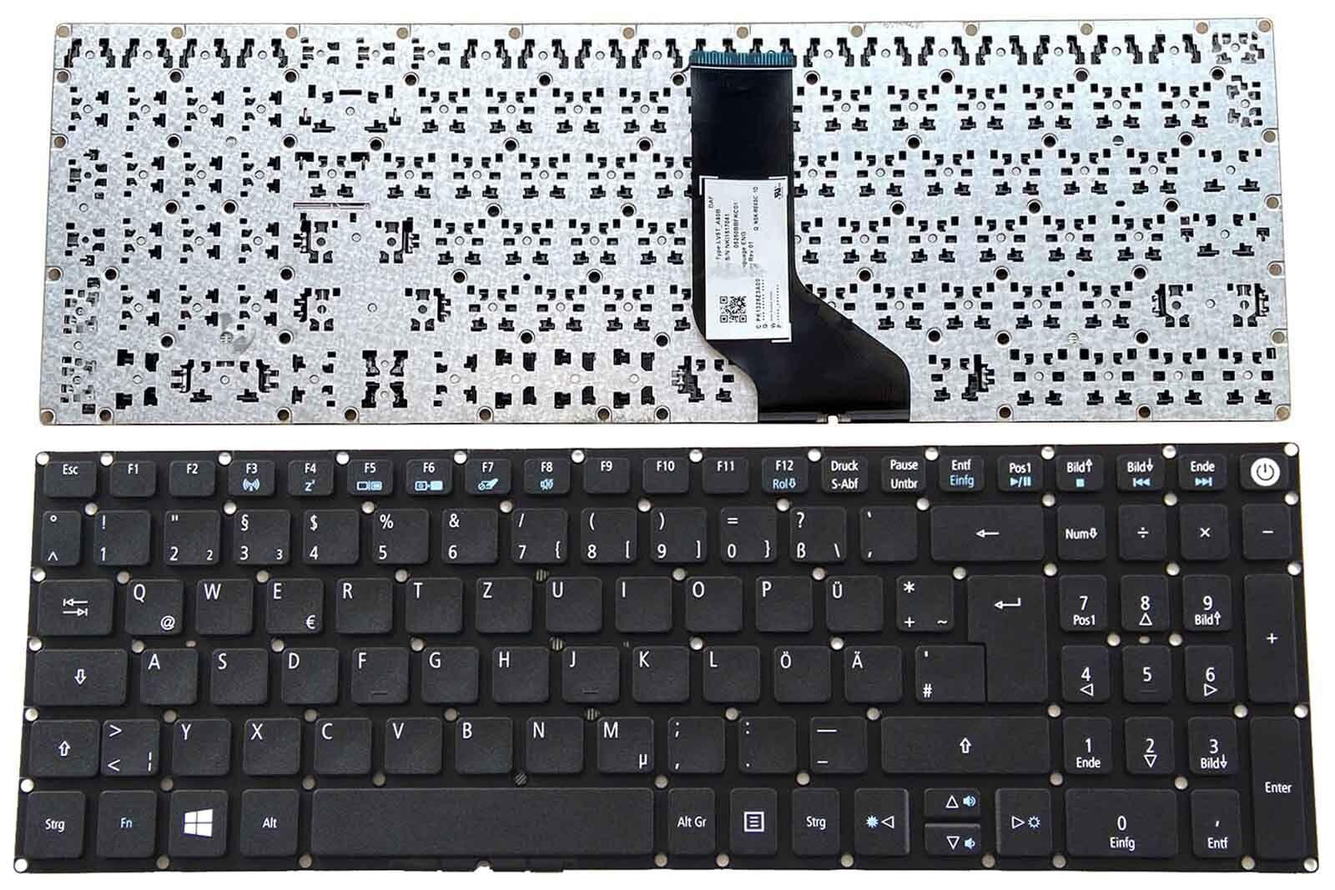0: (715, 503, 778, 566)
1: (89, 507, 151, 568)
2: (159, 506, 223, 568)
3: (230, 505, 293, 566)
4: (300, 505, 360, 566)
5: (370, 506, 431, 565)
6: (438, 505, 500, 566)
7: (508, 505, 570, 566)
8: (578, 505, 637, 566)
9: (647, 504, 708, 565)
a: (137, 645, 199, 706)
accent: (858, 501, 919, 563)
ae: (841, 643, 904, 704)
alt-left: (237, 786, 300, 858)
altgr-right: (666, 786, 717, 856)
b: (451, 714, 515, 776)
c: (311, 714, 375, 776)
caret: (38, 507, 82, 567)
comma: (664, 713, 727, 775)
d: (278, 645, 340, 706)
del: (928, 503, 1045, 560)
e: (262, 575, 327, 637)
enter: (966, 572, 1048, 705)
f: (347, 644, 410, 706)
g: (418, 644, 480, 703)
h: (489, 644, 550, 704)
hash: (911, 641, 983, 704)
i: (610, 573, 674, 633)
j: (558, 642, 620, 704)
k: (628, 641, 691, 703)
keyboard: (11, 443, 1325, 876)
l: (699, 642, 762, 703)
less: (100, 716, 160, 778)
m: (594, 714, 656, 776)
minus: (806, 713, 870, 776)
n: (521, 714, 586, 776)
o: (682, 573, 744, 634)
oe: (770, 642, 833, 704)
p: (751, 572, 815, 634)
plus: (892, 571, 955, 634)
point: (735, 714, 797, 774)
q: (122, 576, 185, 638)
r: (331, 574, 395, 636)
s: (205, 645, 270, 706)
shift-left: (25, 717, 99, 777)
shift-lock: (28, 646, 128, 706)
shift-right: (877, 713, 1050, 774)
space: (308, 786, 657, 858)
ss: (788, 504, 849, 565)
strg-left: (21, 788, 86, 860)
strg-right: (788, 787, 843, 857)
t: (402, 575, 466, 634)
tab: (33, 576, 115, 636)
u: (542, 574, 604, 634)
ue: (822, 571, 886, 635)
v: (382, 714, 444, 775)
w: (191, 575, 255, 637)
x: (239, 715, 302, 777)
y: (169, 716, 232, 777)
z: (472, 574, 534, 635)
